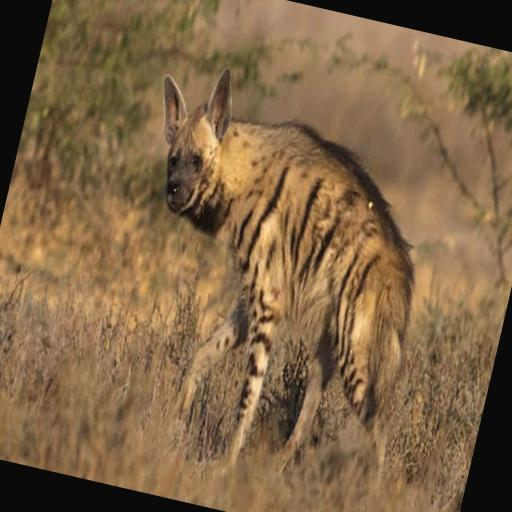hyenas: (66, 59, 475, 512)
